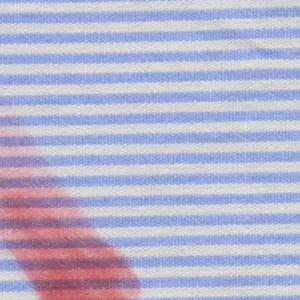Damage: (1, 95, 143, 300)
